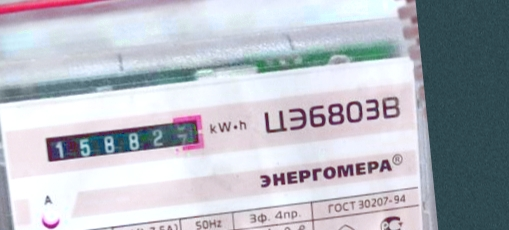1: (53, 136, 67, 156)
2: (152, 124, 165, 144)
5: (78, 133, 92, 154)
7: (177, 129, 189, 144)
8: (128, 127, 142, 150), (103, 130, 117, 152)
screen: (37, 105, 215, 168)
